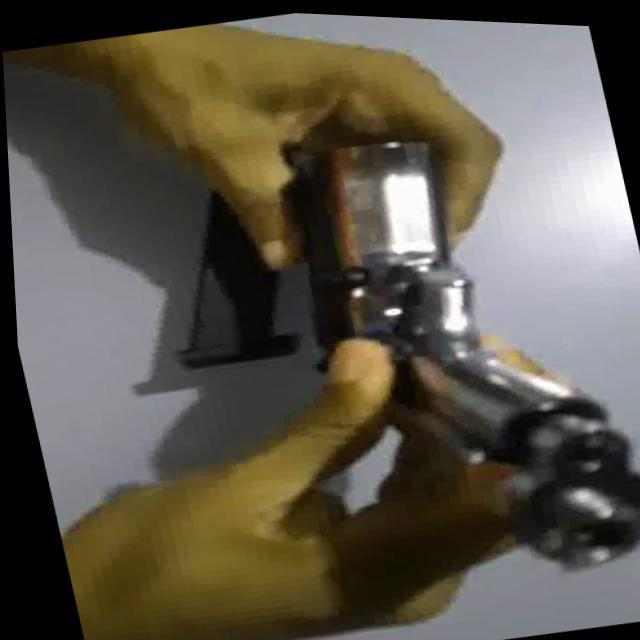weapon: (122, 65, 640, 628)
